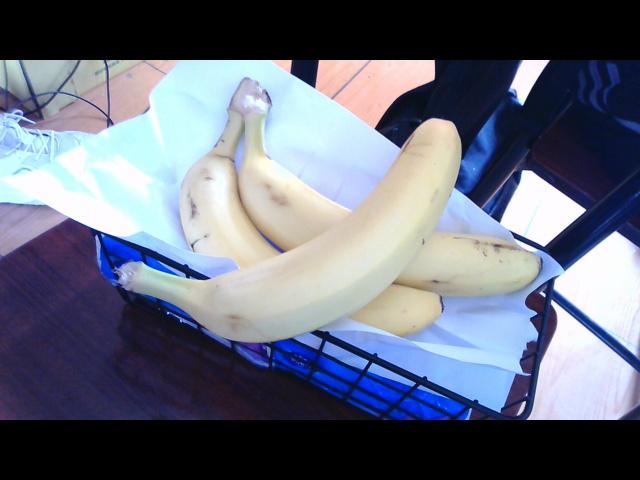banana: (147, 97, 497, 344)
